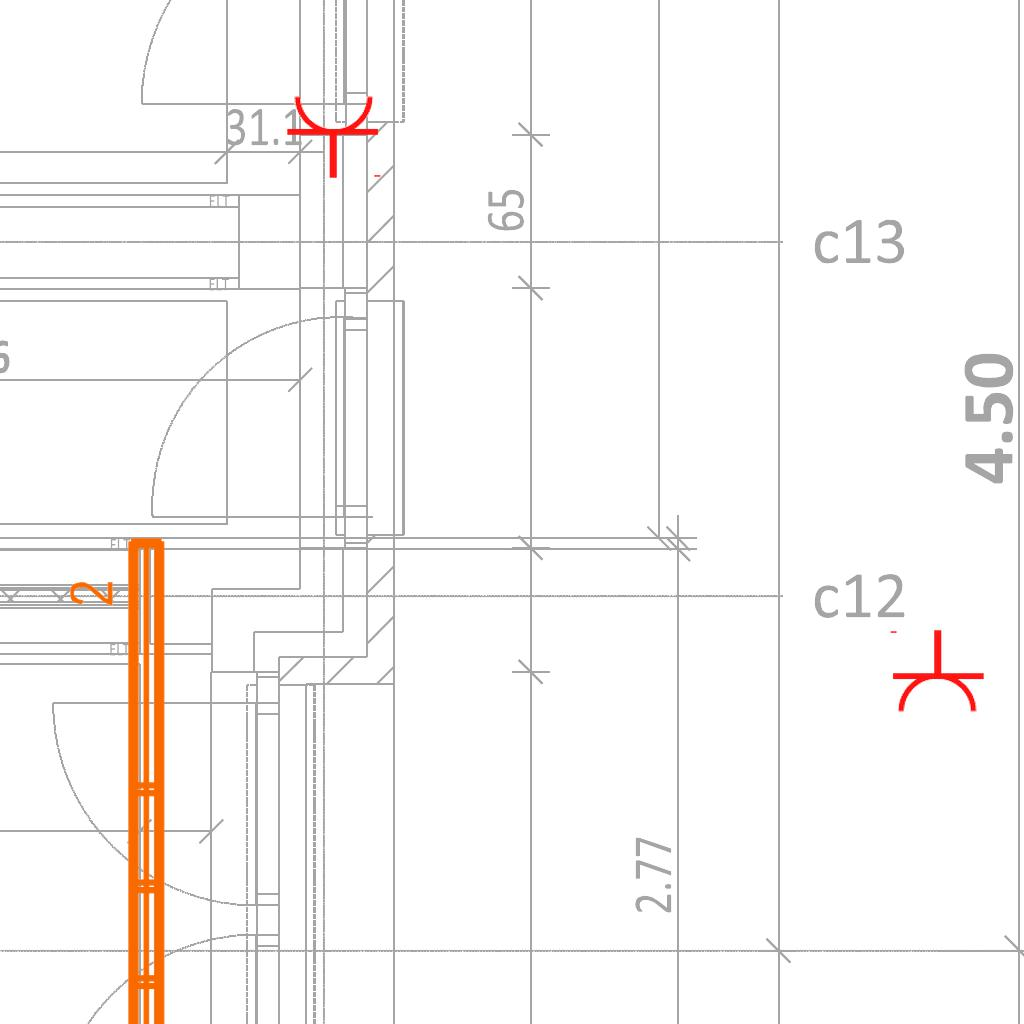Ambulanz_Pendelleuchte_LED: (65, 529, 177, 1024)
Schukosteckdose_einfach: (285, 93, 385, 180), (886, 628, 986, 715)
